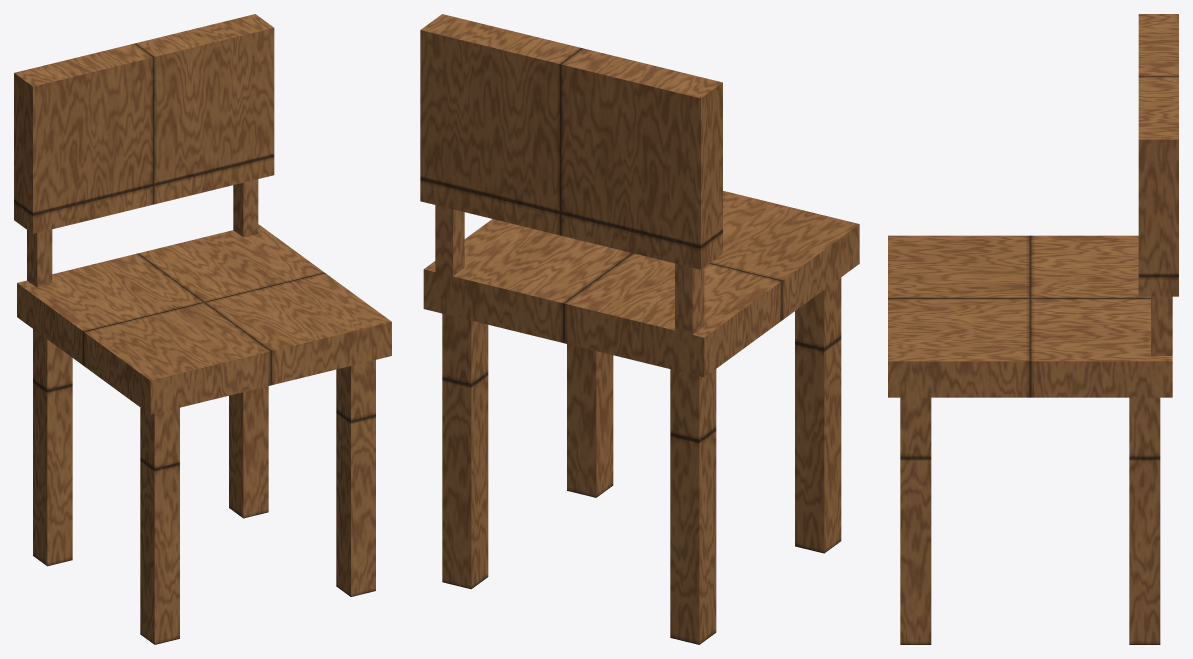
The model's file is Etkezoszek_fa.obj.
3 views of the same model, side by side, from view 1: azimuth 30°, elevation 25°; view 2: azimuth 150°, elevation 25°; view 3: azimuth 270°, elevation 25° (orthographic). The views are drawn at different scales.
Size of the model in its own units: 0.48 by 0.91 by 0.47.
Materials: 1 (1 with a texture image).
